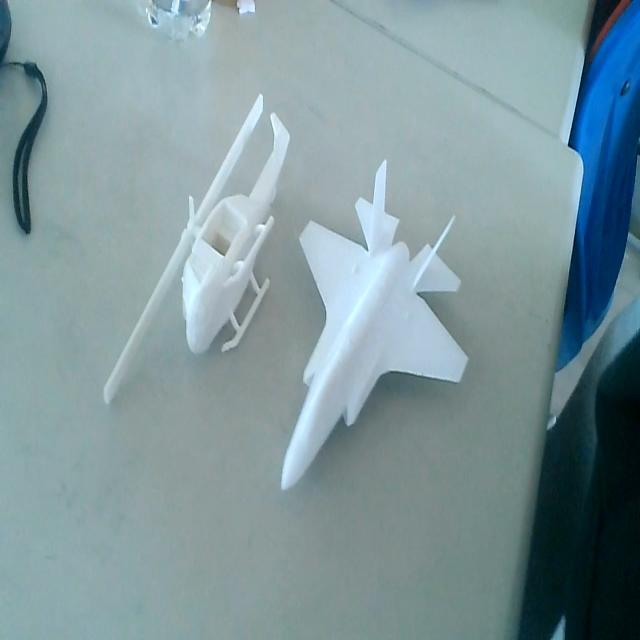Helicopter: (102, 92, 292, 398)
Jet: (283, 157, 469, 492)
